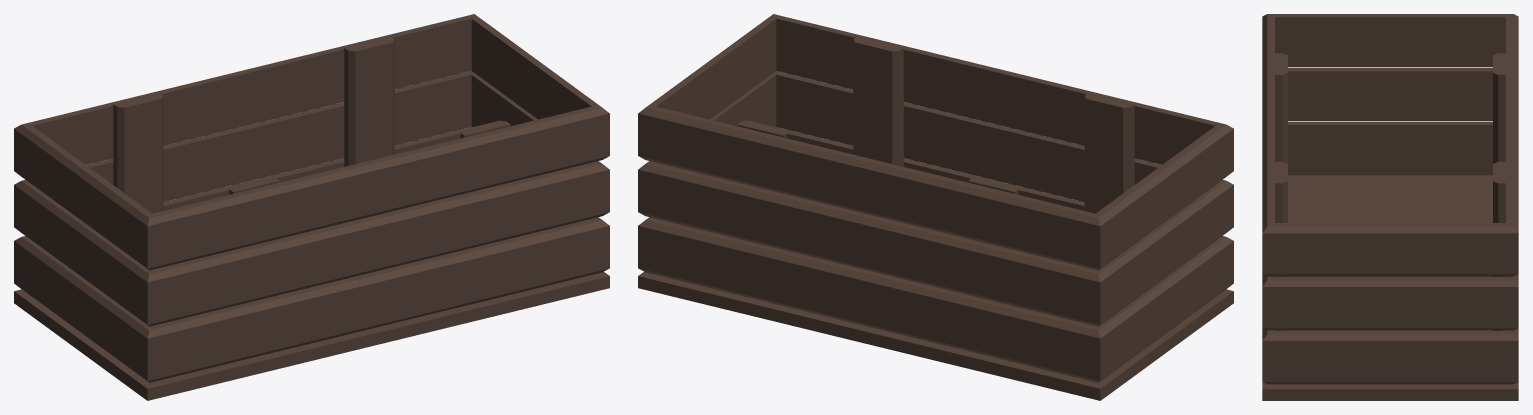
Rendered from fantasy_crate_3.fbx.
3 views of the same model, side by side, from view 1: azimuth 30°, elevation 25°; view 2: azimuth 150°, elevation 25°; view 3: azimuth 270°, elevation 25° (orthographic). The views are drawn at different scales.
Visible parts, largest first — view 1: Cube.071; view 2: Cube.071; view 3: Cube.071.
Boxes of the visible parts, x1=… form: Cube.071: x1=14, y1=14, x2=609, y2=400; Cube.071: x1=638, y1=14, x2=1233, y2=400; Cube.071: x1=1262, y1=14, x2=1518, y2=400.
Size of the model in its own units: 200 by 75 by 100.
